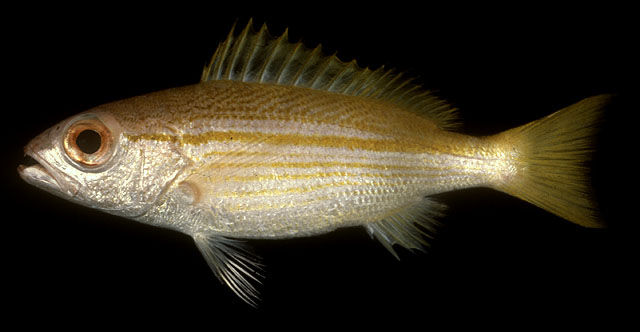fish: (16, 19, 607, 308)
